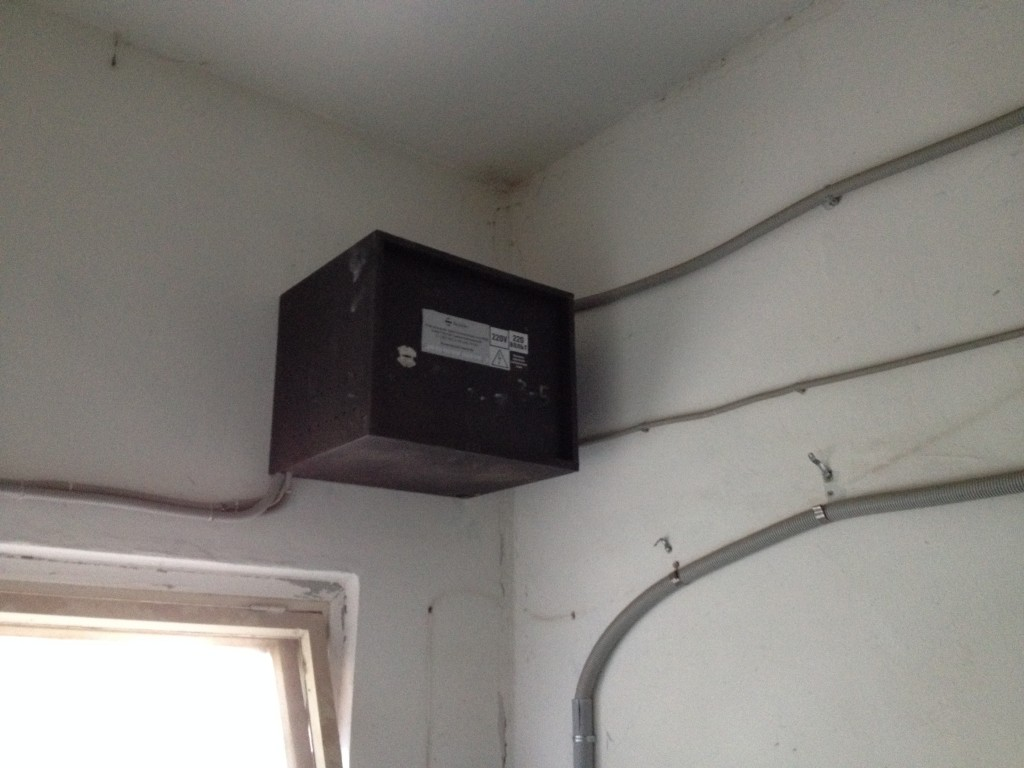shta-9m: (257, 215, 590, 504)
